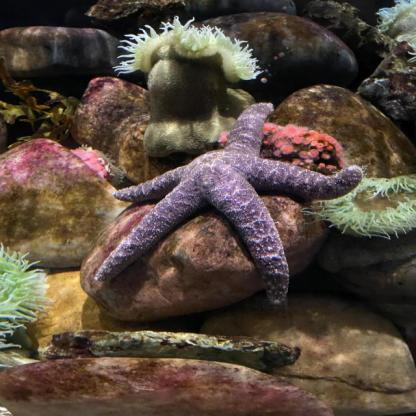starfish: (94, 102, 362, 310)
